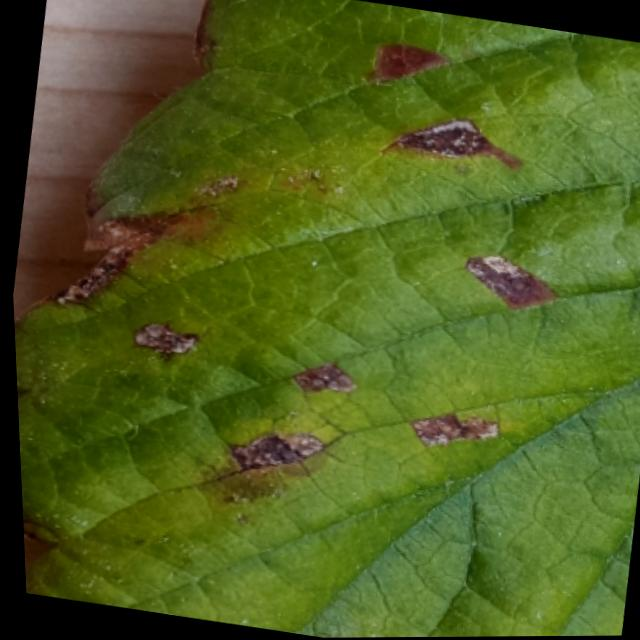Angular Leafspot: (11, 0, 559, 638)
